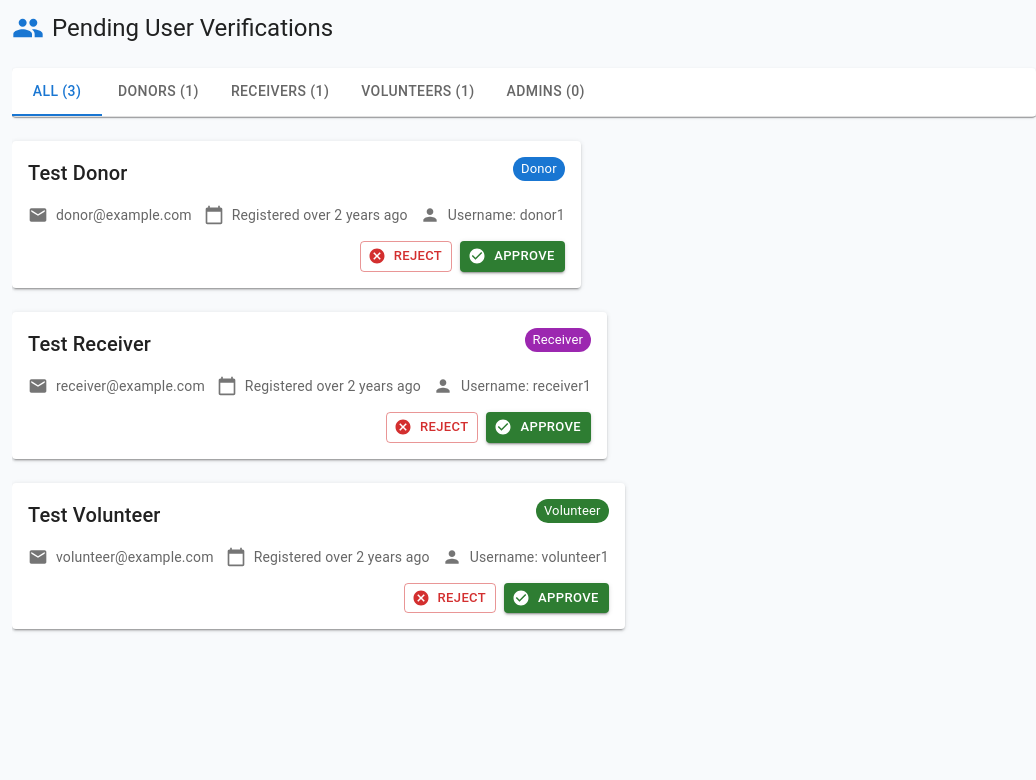
Test: UserVerificationList › should show all users when "All" tab is selected
Check: the text "Test Donor" is shown, box [28,157,128,189]
# Click on Receivers tab first
Click the tab "Receivers (1)": (280, 92) [215,68,345,116]
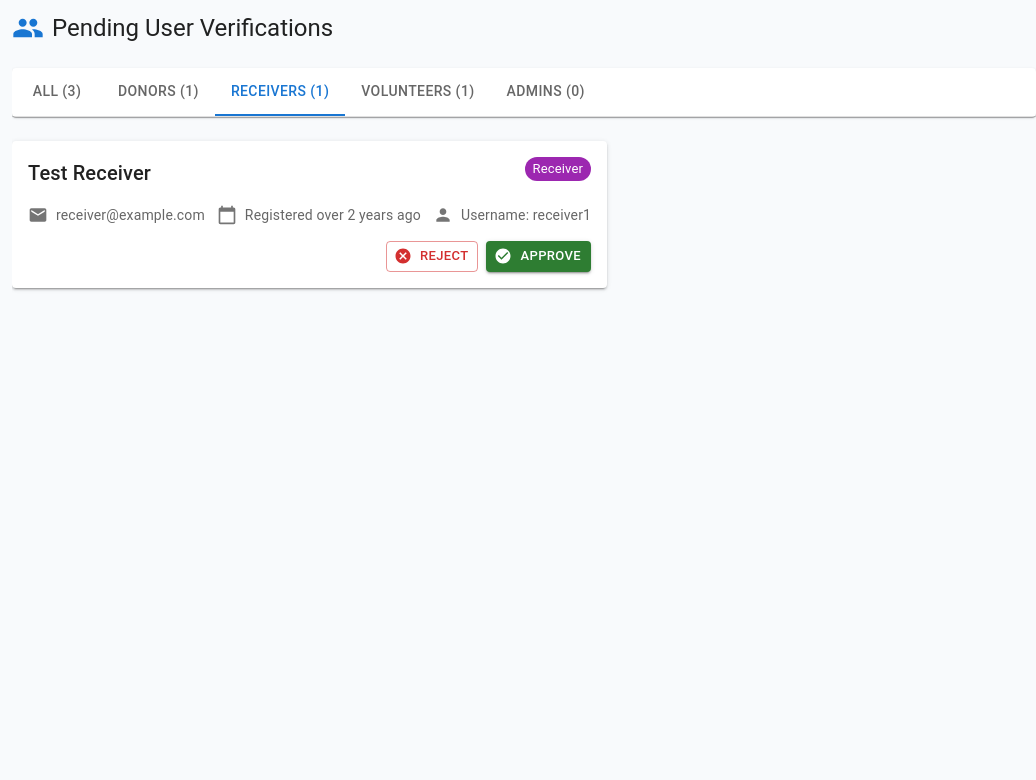
# Then click back to All tab
Click the tab "All (3)": (57, 92) [12,68,102,116]
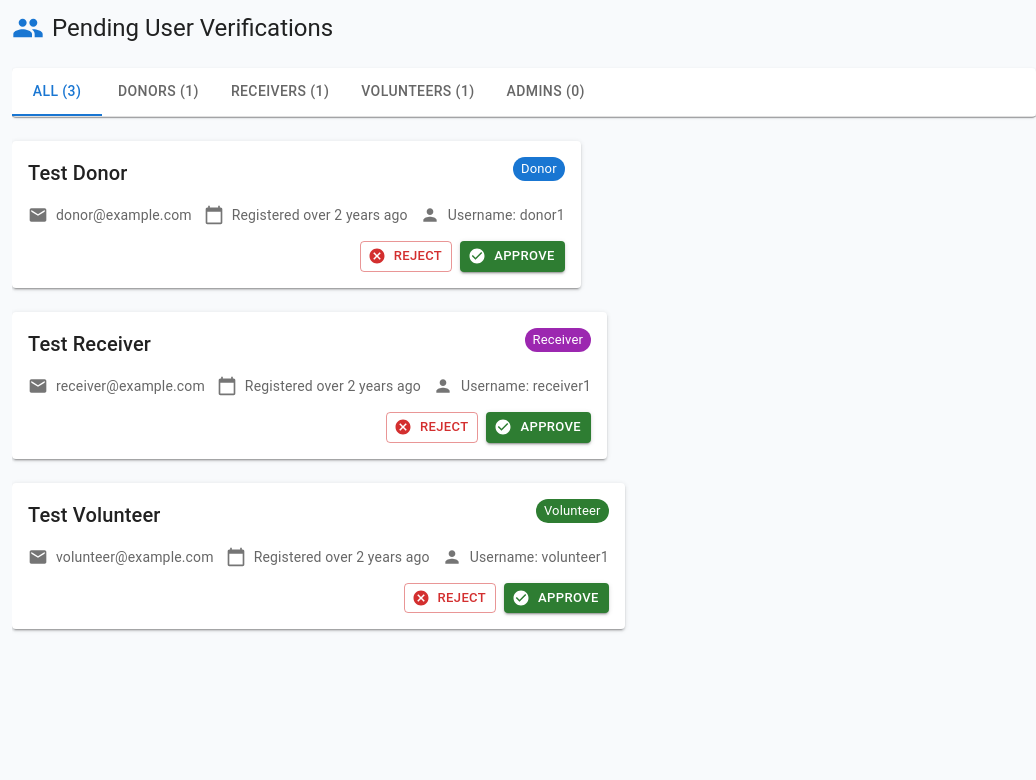
Check: the text "Test Receiver" is shown, box [28,328,151,360]
Check: the text "Test Donor" is shown, box [28,157,128,189]
Check: the text "Test Volunteer" is shown, box [28,498,160,530]
